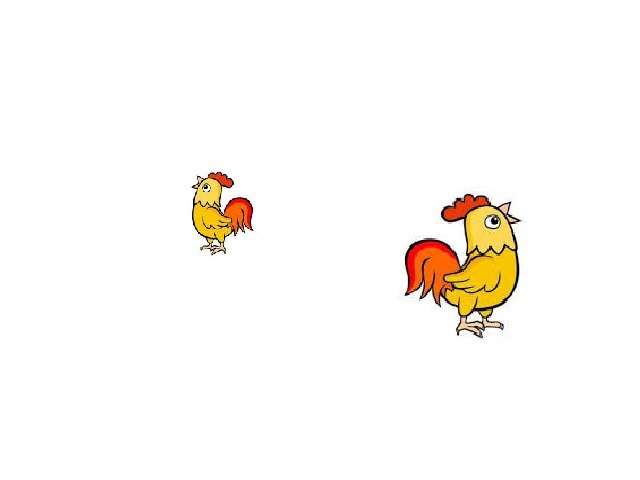crown: (439, 194, 491, 217), (209, 172, 232, 188)
eyes: (484, 213, 502, 229), (201, 183, 213, 191)
feet: (456, 312, 509, 342), (204, 243, 232, 257)
tail: (405, 239, 463, 306), (224, 196, 255, 237)
